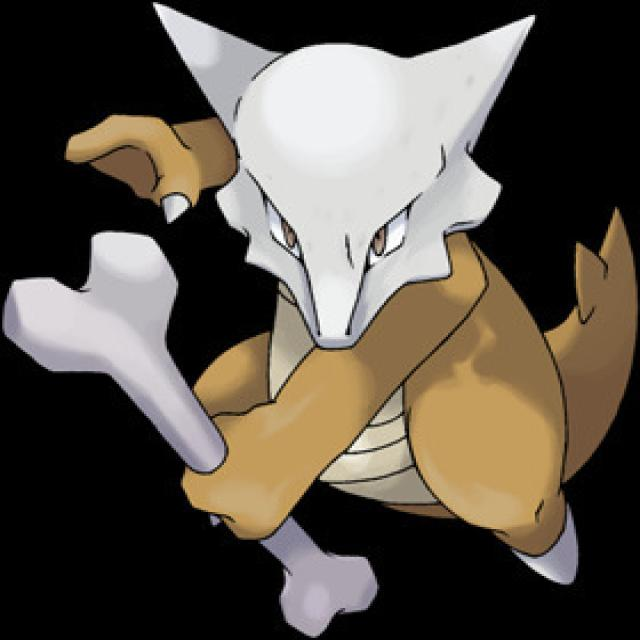Marowak: (94, 9, 595, 577)
